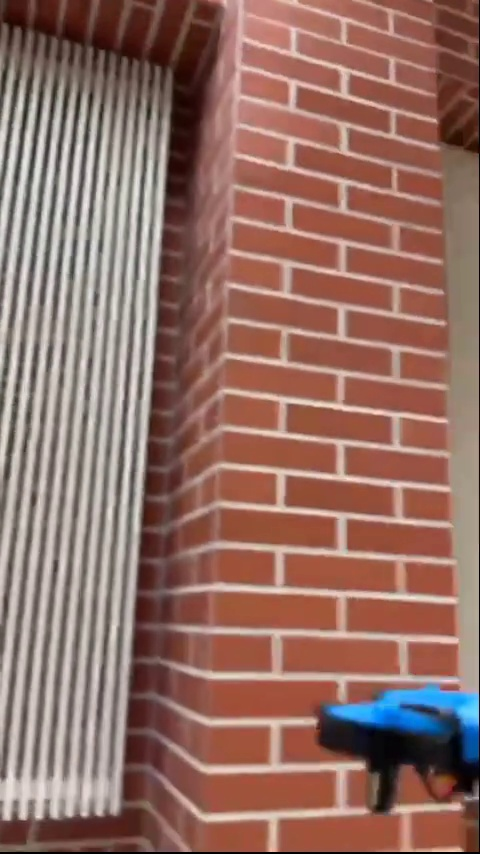drone: (322, 670, 480, 816)
